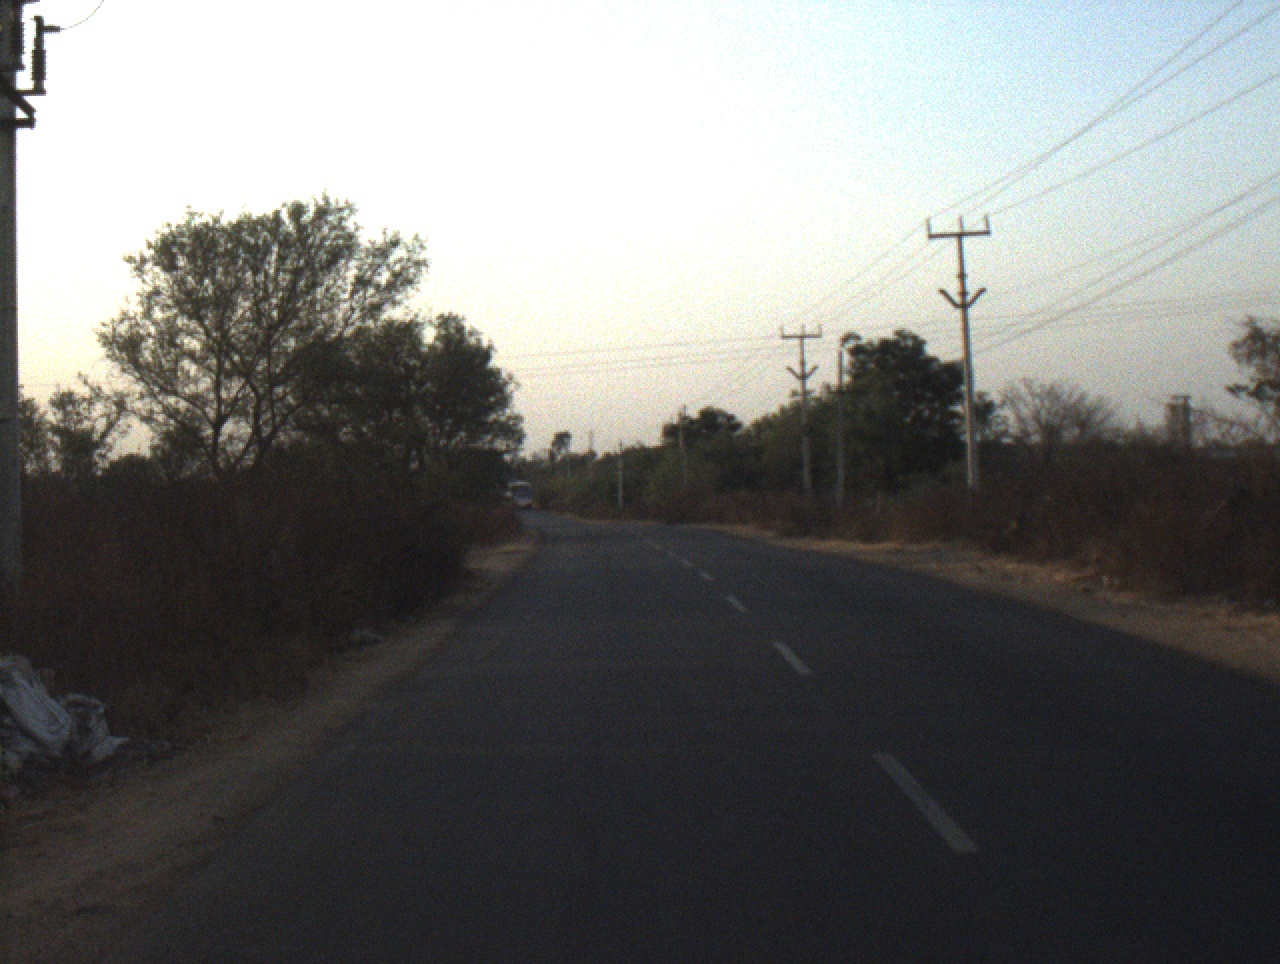bus: (504, 477, 540, 515)
